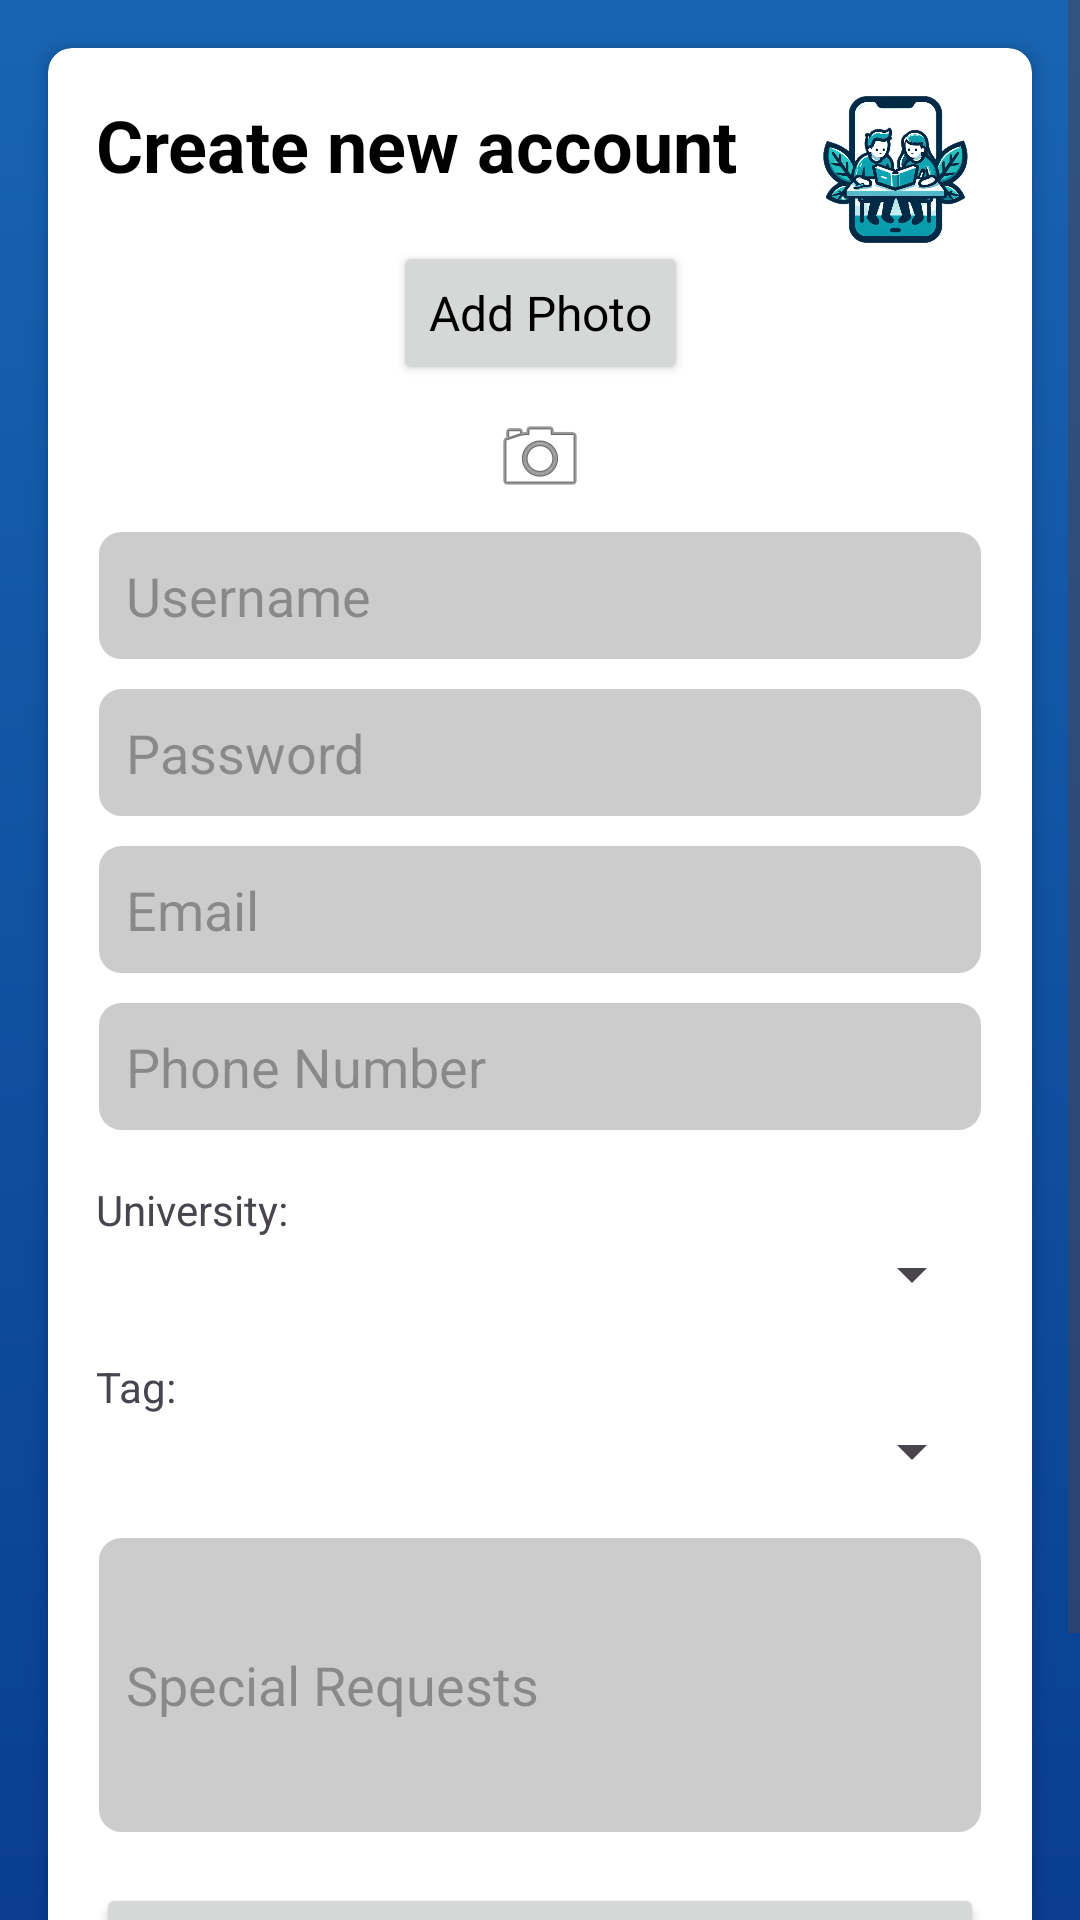

Named icons in this screenshot (1080x1920) and their bounding boxes, bbox=(x1, y1, x2, y2):
camera: bbox=(503, 426, 577, 485)
